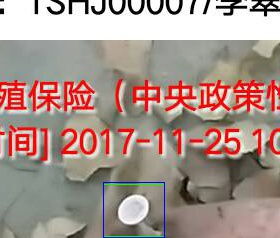text: (103, 184, 164, 236)
